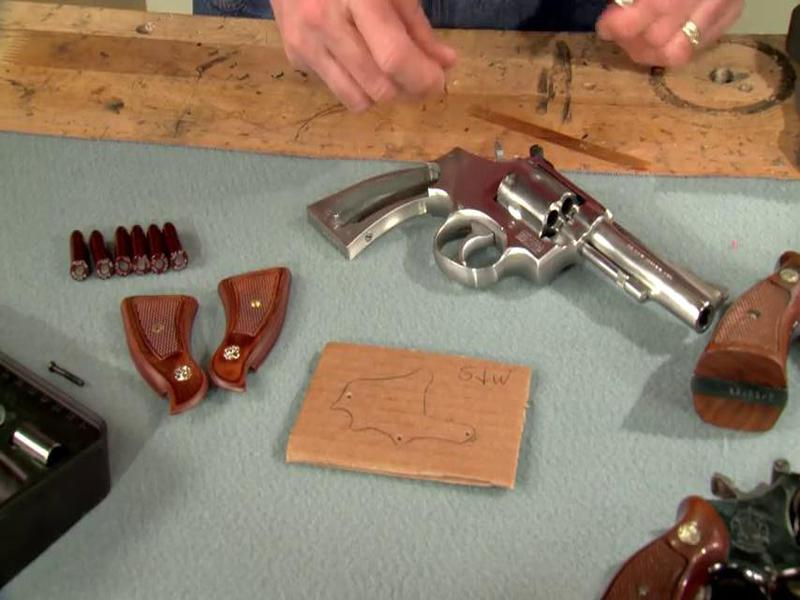Revolver: (301, 97, 760, 380)
